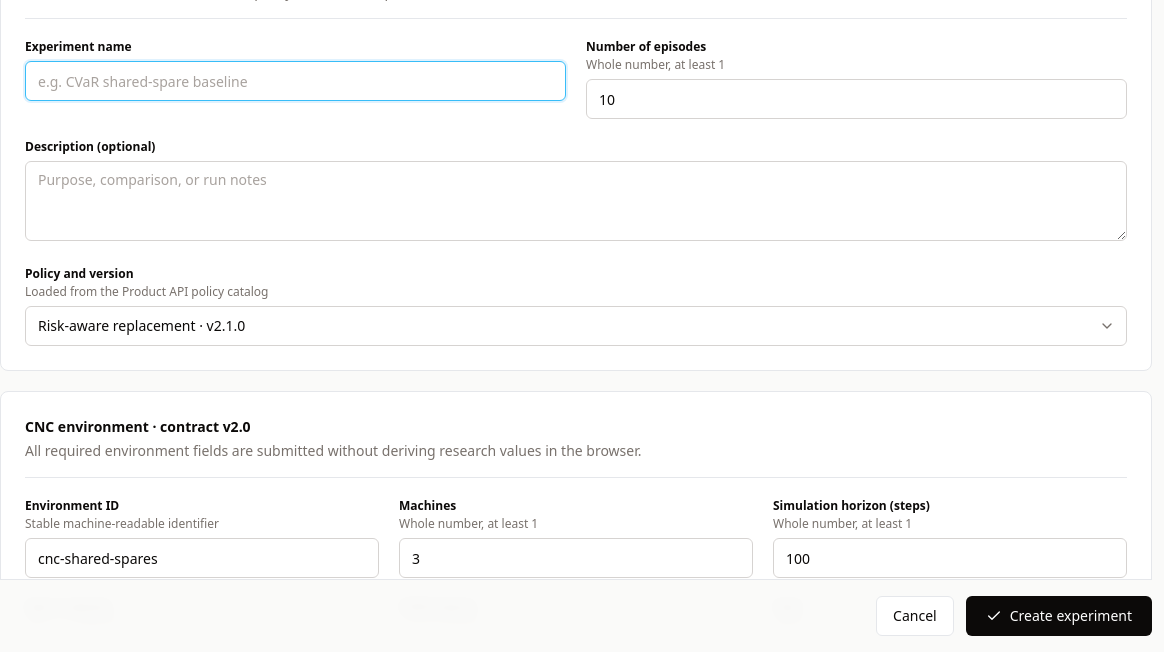
Test: CreateExperimentForm › shows required and basic numeric validation without submitting
Expected: the button "Create experiment" is enabled, [966,596,1152,636]
Replace the text in the number field labelled "Number of episodes" with "0" at (856, 99), box [586,79,1127,119]
(page scrolled)
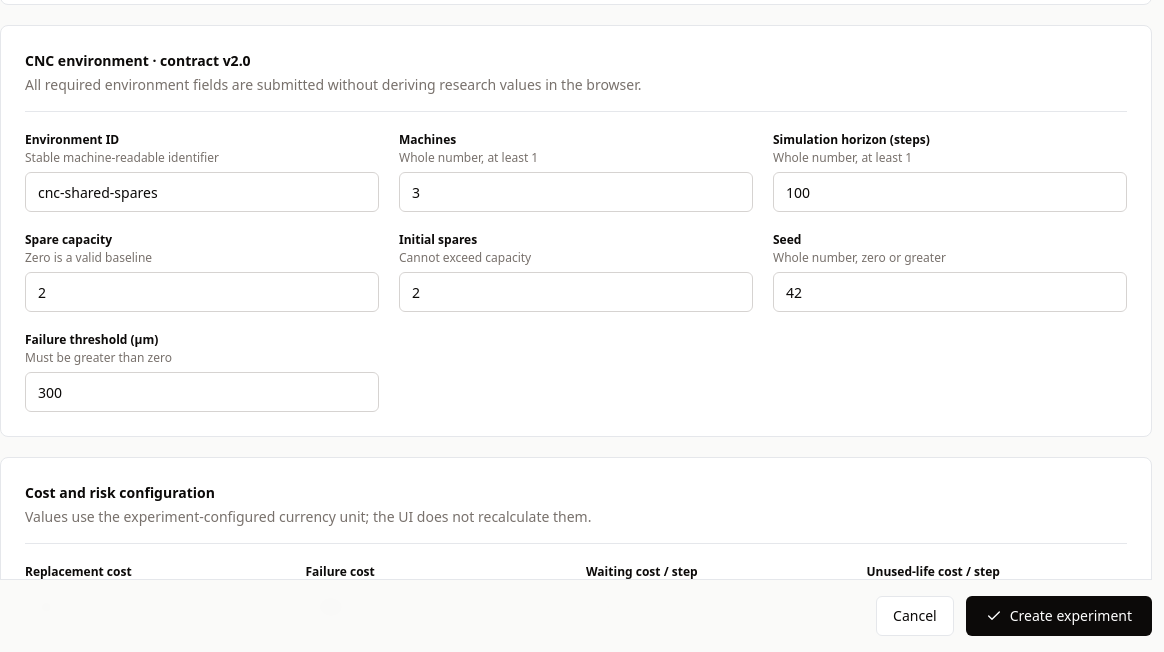
Replace the text in the number field labelled "Spare capacity" with "1" at (202, 292), box [25,272,379,312]
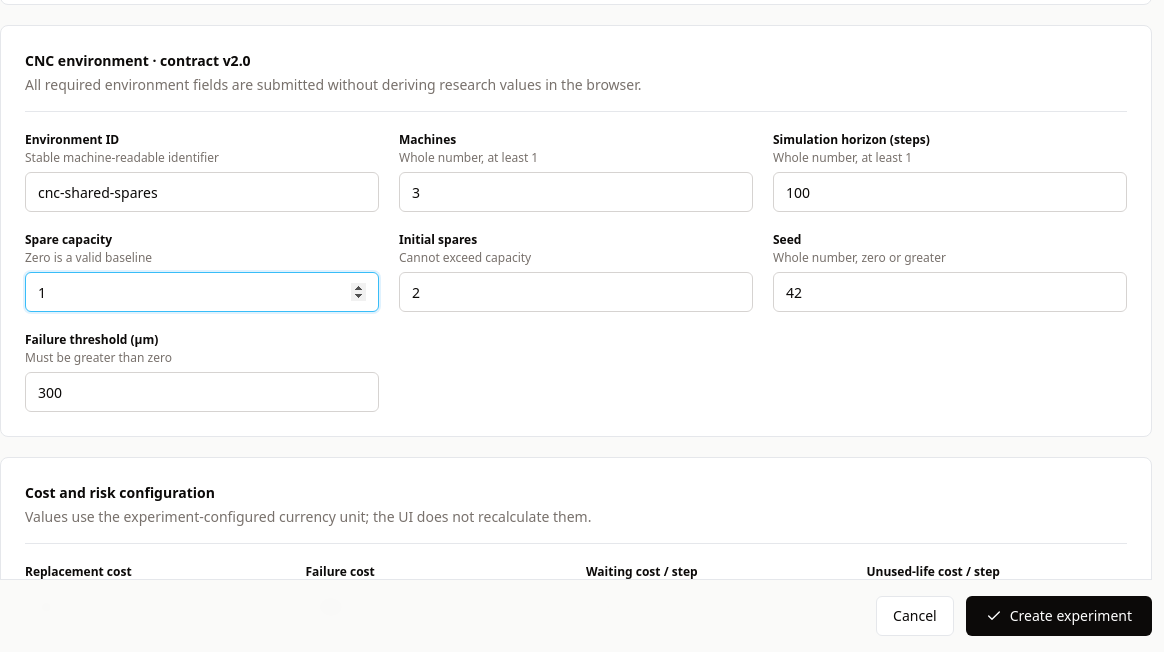
Replace the text in the number field labelled "Failure threshold (µm)" with "0" at (202, 392), box [25,372,379,412]
(page scrolled)
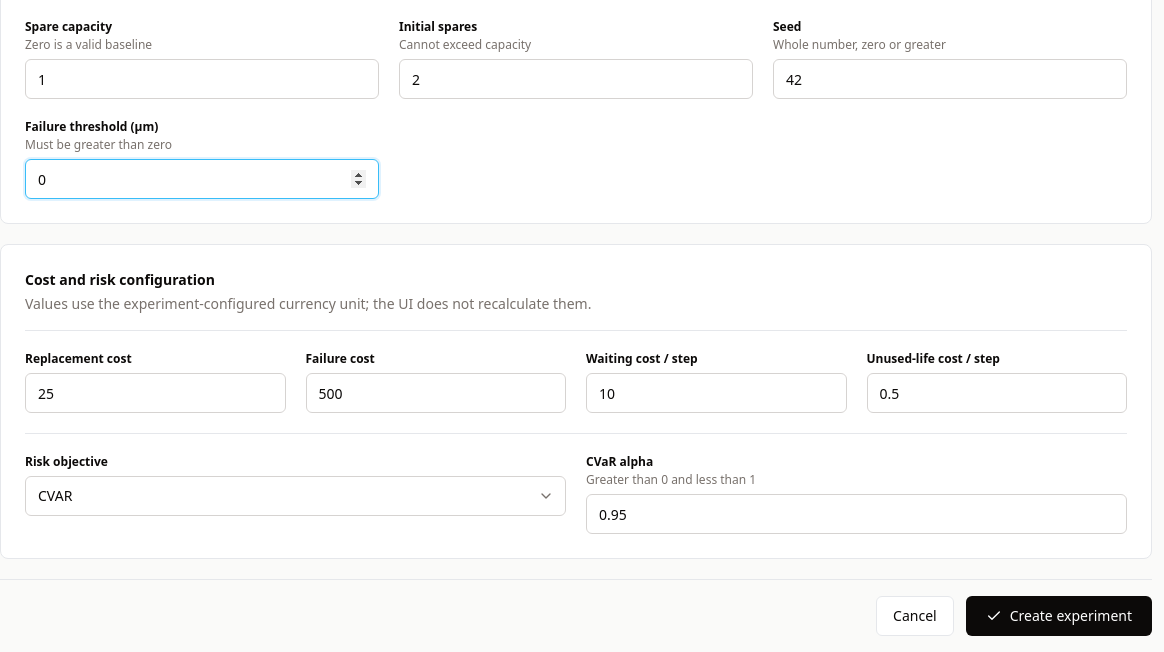
Replace the text in the number field labelled "CVaR alpha" with "1" at (856, 514), box [586,494,1127,534]
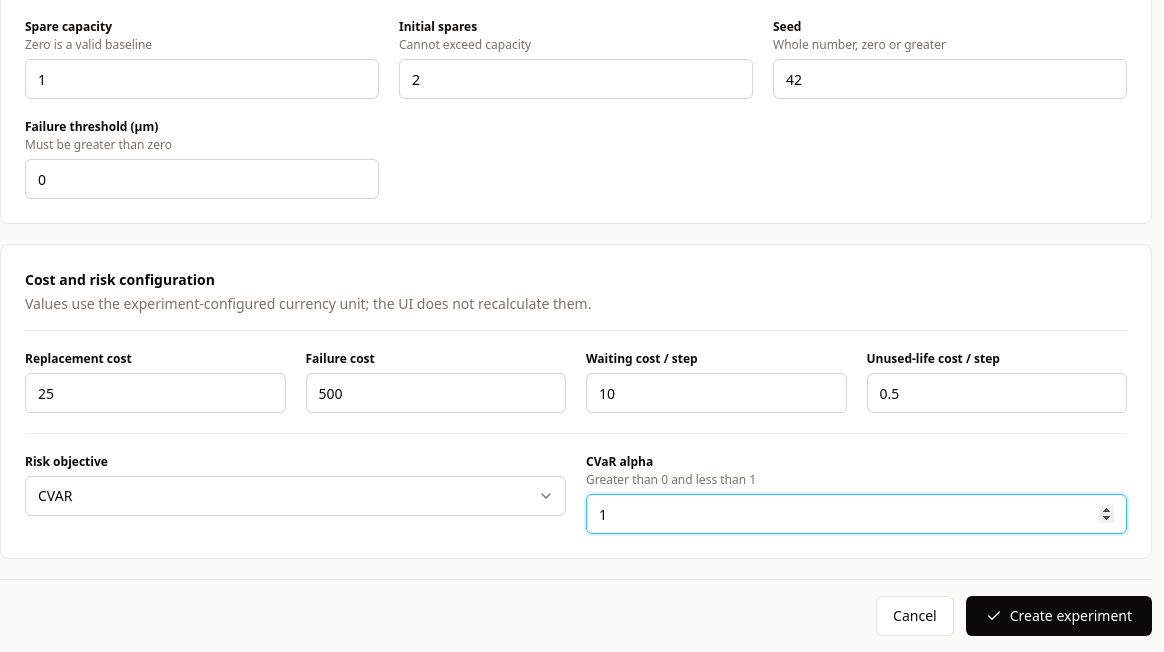
Click the button "Create experiment".
click(1059, 616)  # box [966,596,1152,636]
(page scrolled)
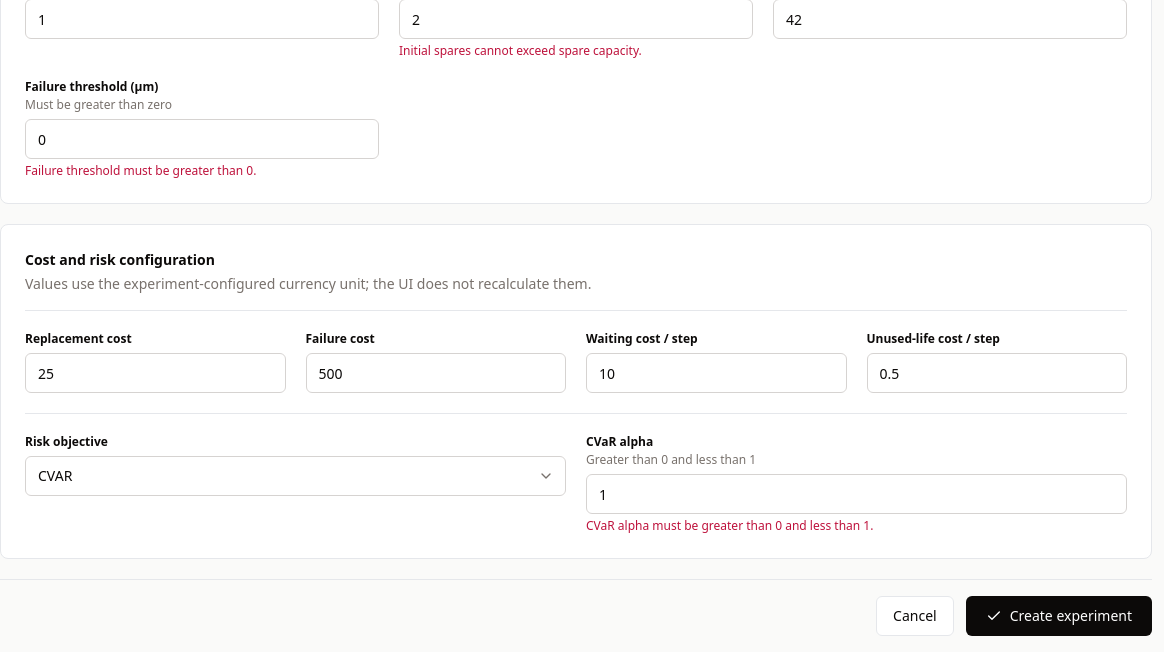
Expected: the text "Initial spares cannot exceed spare capacity." is shown, [399,42,642,59]
Expected: the text "Failure threshold must be greater than 0." is shown, [25,162,256,179]
Expected: the text "CVaR alpha must be greater than 0 and less than 1." is shown, [586,517,874,534]
